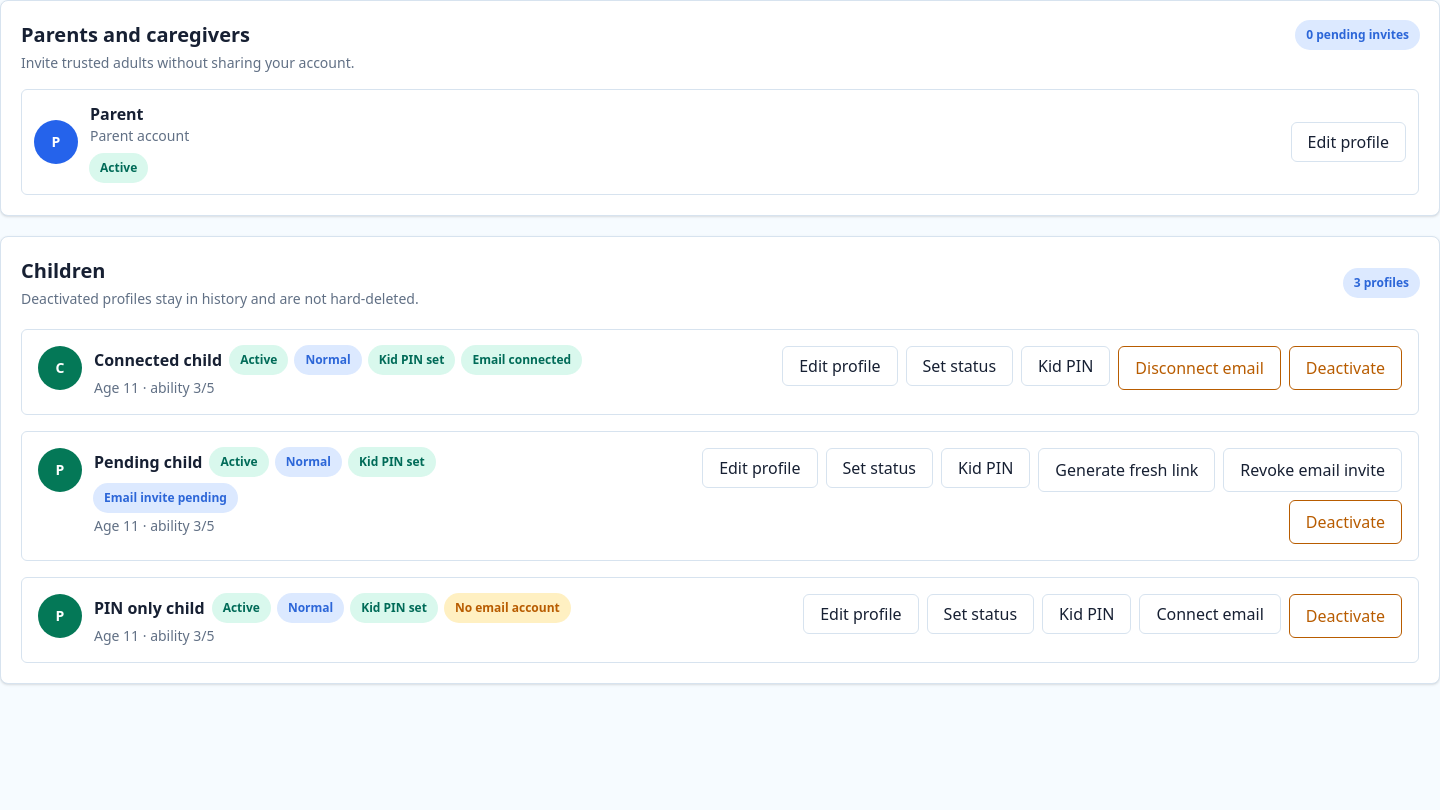
Test: FamilyMemberList child email access › shows connected, pending, and available account controls distinctly
Expected: the text "Email connected" is shown, left=462, top=346, right=581, bottom=374
Expected: the text "Email invite pending" is shown, left=94, top=484, right=237, bottom=512
Click the button "Connect email": point(1210, 614) left=1139, top=594, right=1281, bottom=634
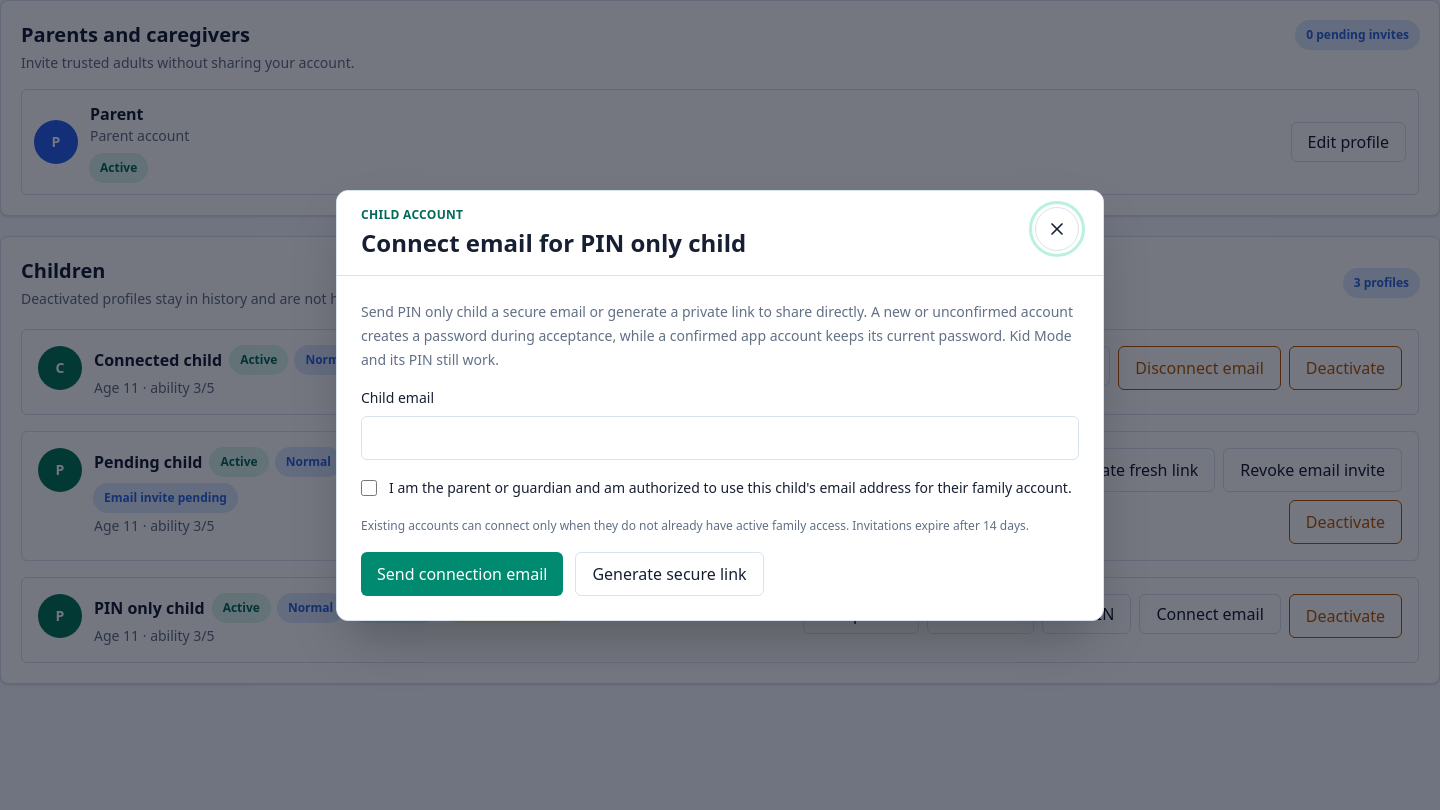
Expected: the dialog "Connect email for PIN only child" is shown, left=336, top=190, right=1104, bottom=620
Expected: the button "Send connection email" is shown, left=361, top=552, right=563, bottom=596
Expected: the button "Generate secure link" is shown, left=575, top=552, right=764, bottom=596
Click the button named "Close child email connection": point(1057, 228) left=1035, top=206, right=1079, bottom=250
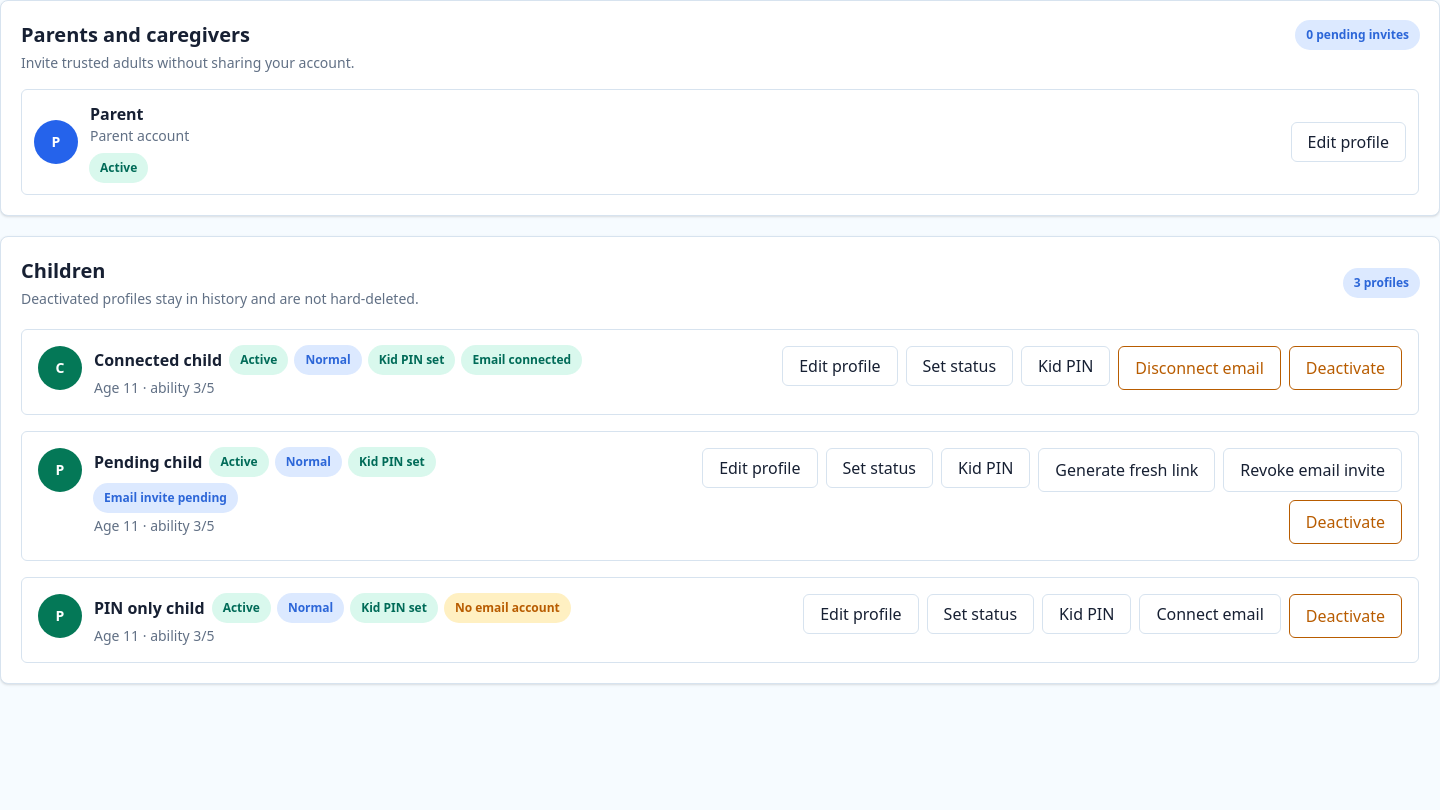
Click the button "Edit profile" in the row of "No email account": point(861, 614) left=803, top=594, right=919, bottom=634
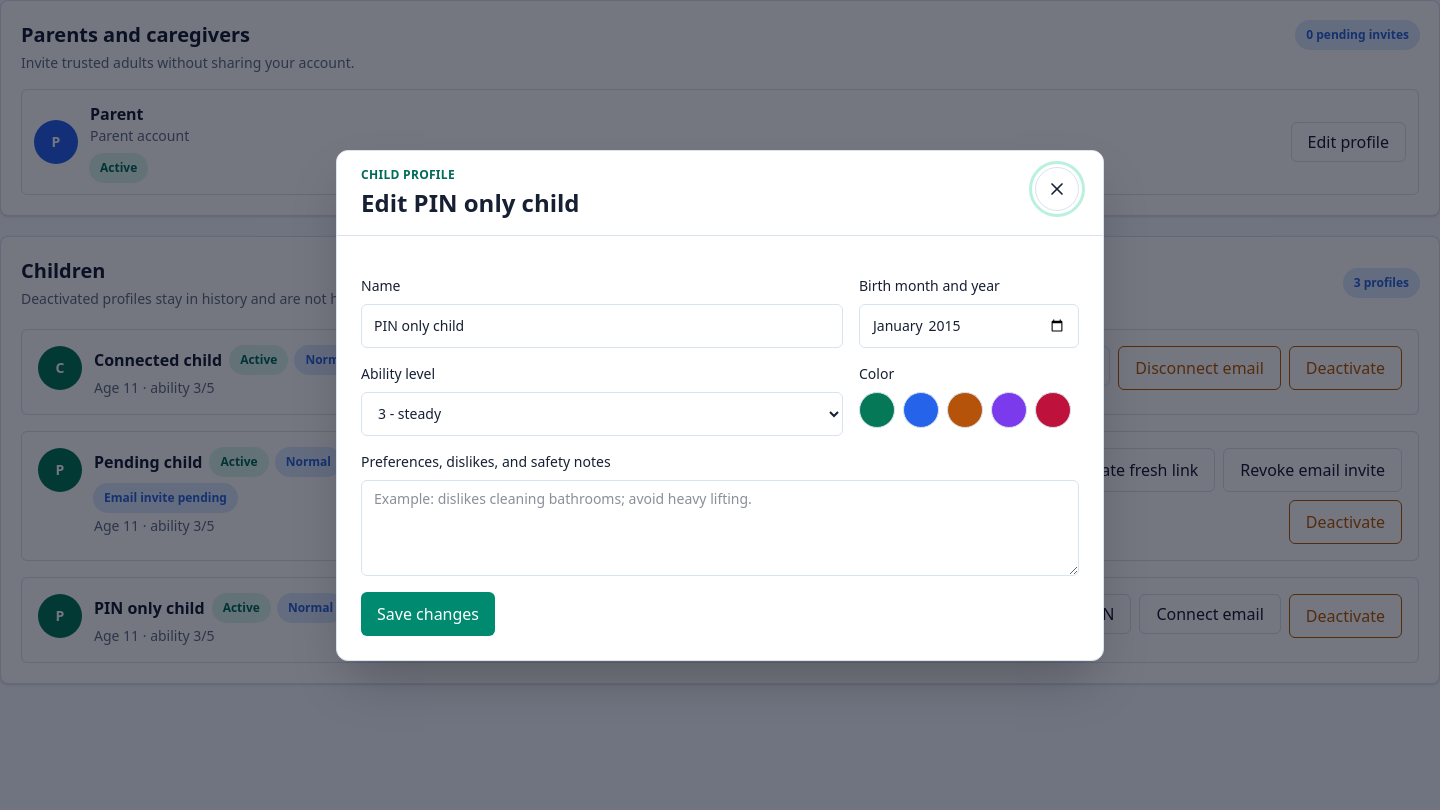
Expected: the dialog "Edit PIN only child" is shown, left=336, top=150, right=1104, bottom=660
Click the button named "Close child profile editor": point(1057, 188) left=1035, top=166, right=1079, bottom=210
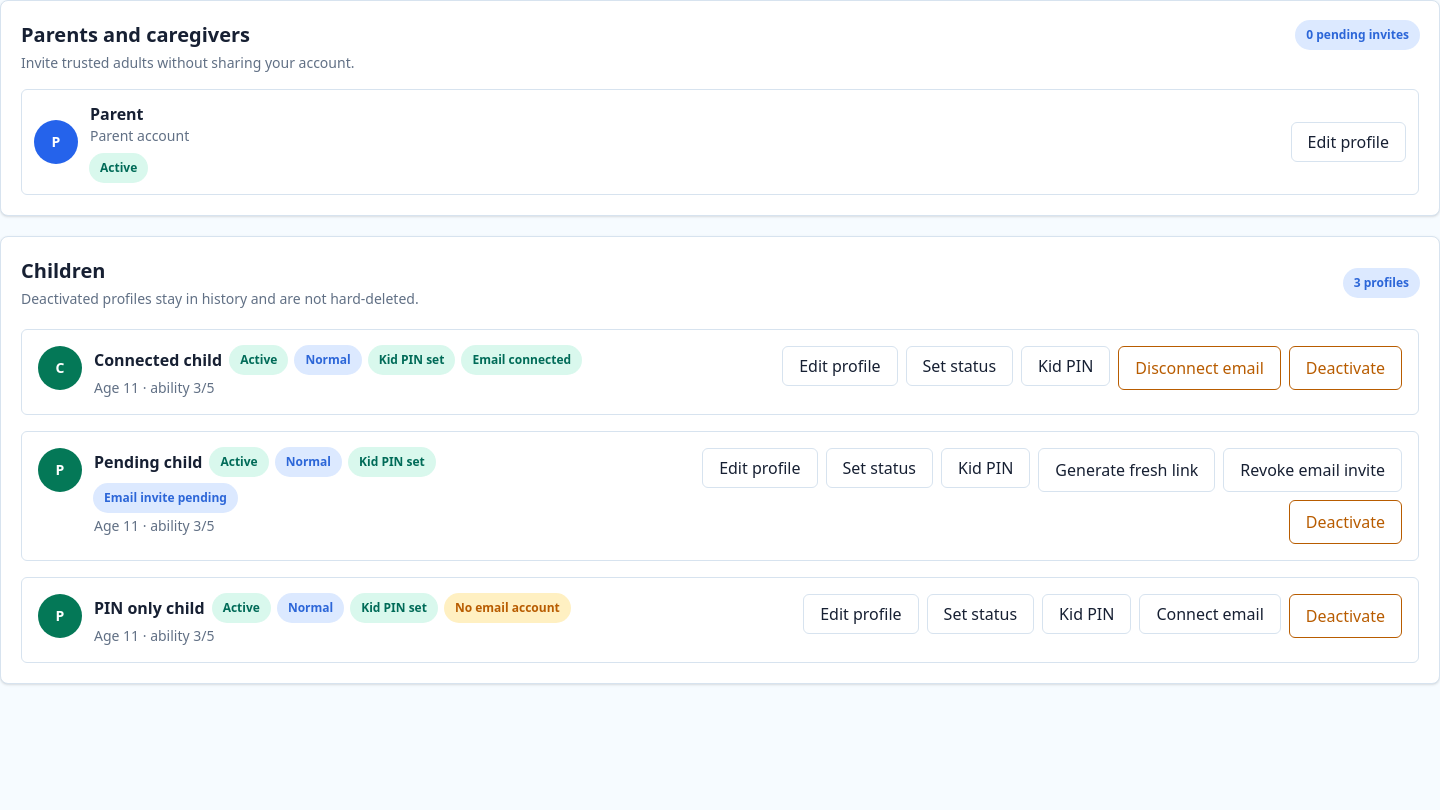
Expected: the element "Parent" is shown, left=21, top=89, right=1419, bottom=195
Click the button "Edit profile" in the row of "Parent account": point(1348, 142) left=1291, top=122, right=1406, bottom=162
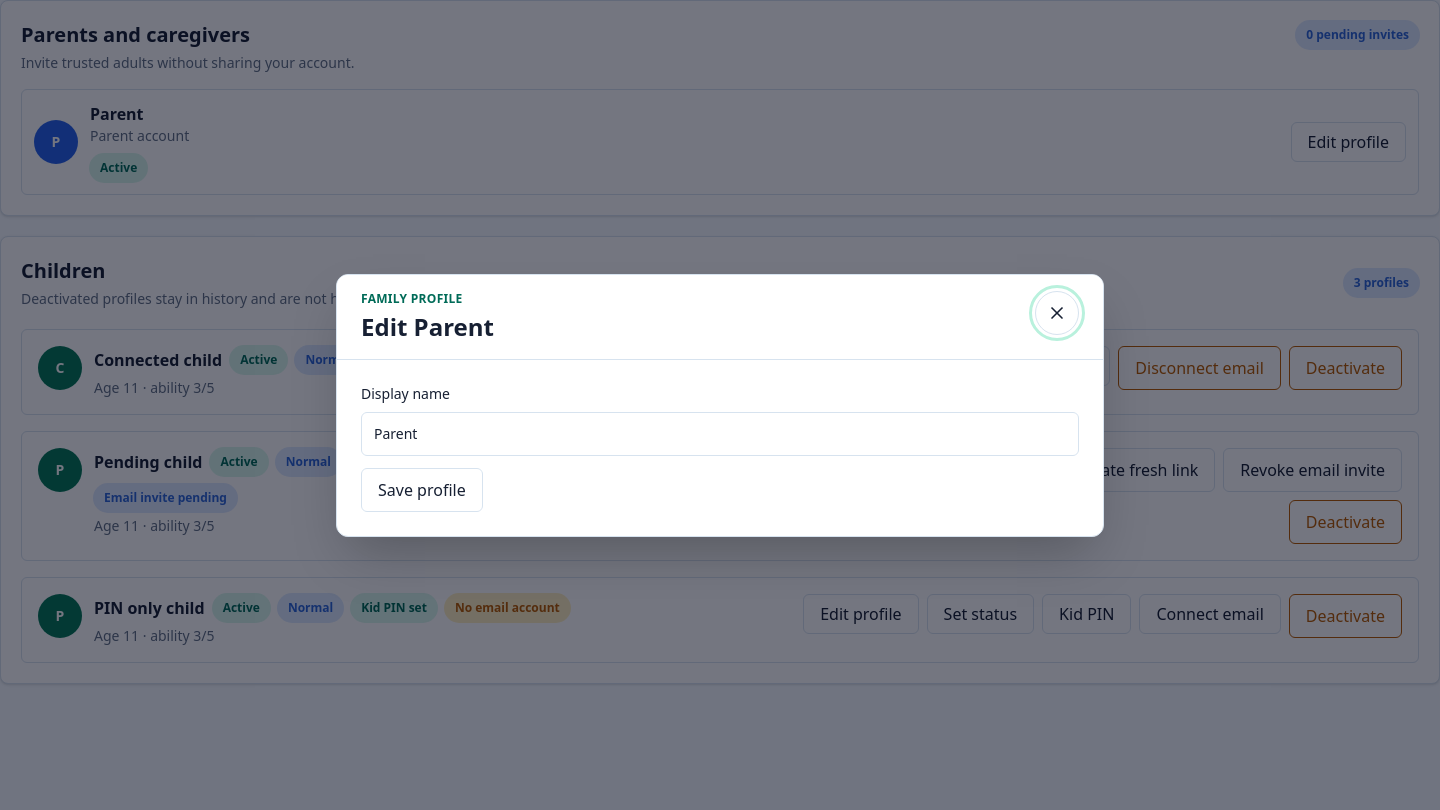
Expected: the dialog "Edit Parent" is shown, left=336, top=274, right=1104, bottom=536
